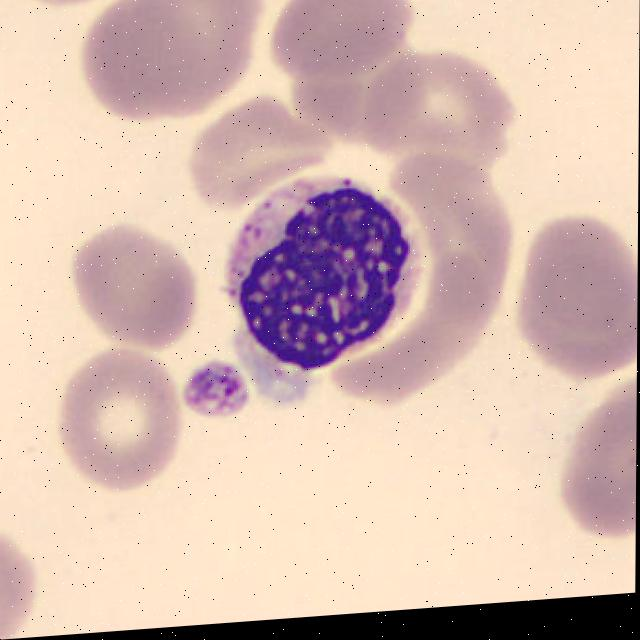neutrophil: (222, 168, 424, 375)
platelets: (179, 347, 249, 427)
rbc: (381, 143, 541, 413), (359, 39, 517, 183), (51, 348, 184, 498), (70, 0, 222, 128), (185, 84, 327, 212), (517, 258, 637, 402), (523, 207, 638, 354), (73, 225, 201, 354), (285, 39, 418, 160), (135, 0, 263, 120), (266, 0, 415, 101), (562, 375, 637, 553), (0, 531, 42, 640), (2, 0, 121, 33), (491, 0, 632, 14)
